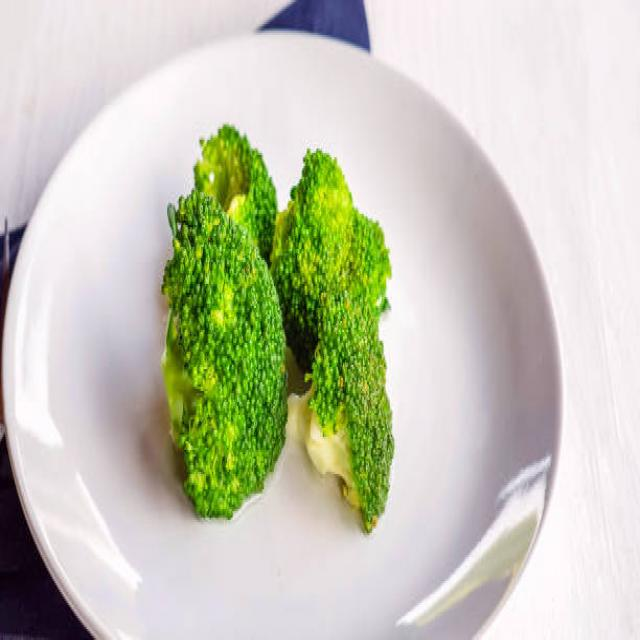broccoli: (161, 234, 289, 511), (307, 304, 413, 566), (287, 123, 398, 300), (206, 93, 287, 227)
